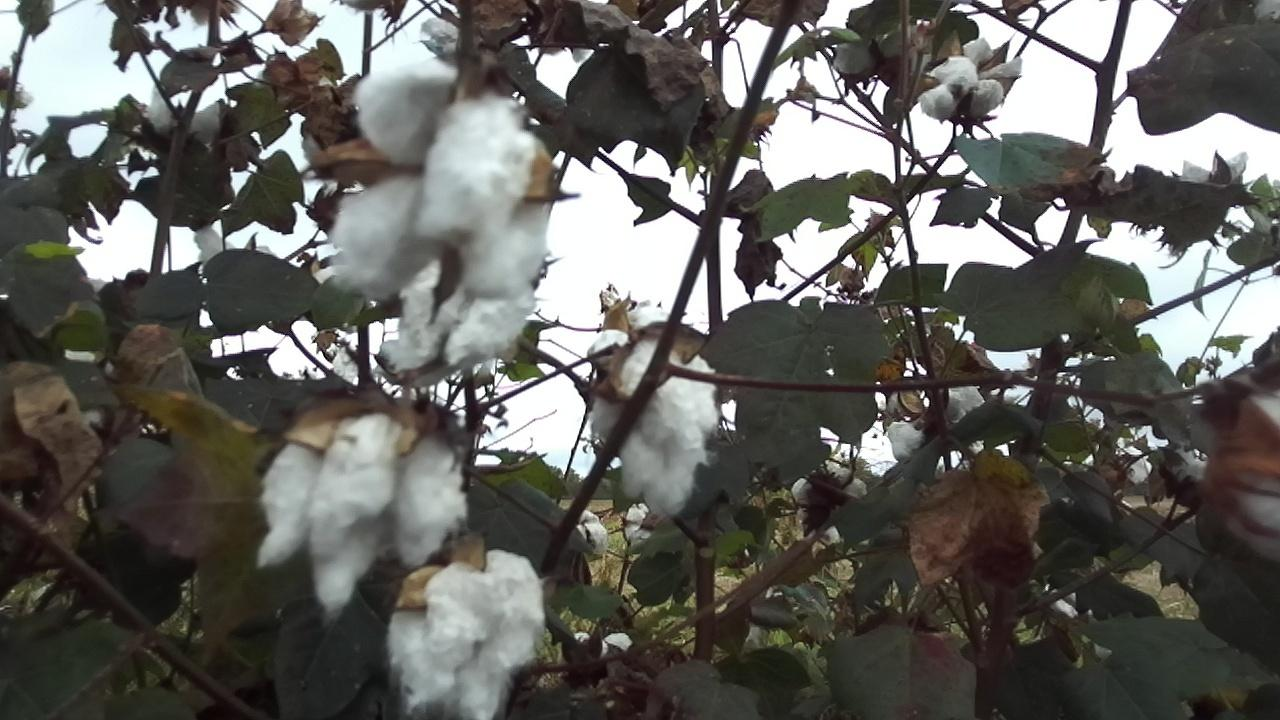cotton_ready: (327, 72, 551, 302), (252, 417, 471, 617), (385, 545, 549, 720), (582, 341, 724, 520), (367, 249, 529, 377), (1229, 387, 1280, 537), (920, 58, 1006, 123), (962, 37, 1024, 81)
